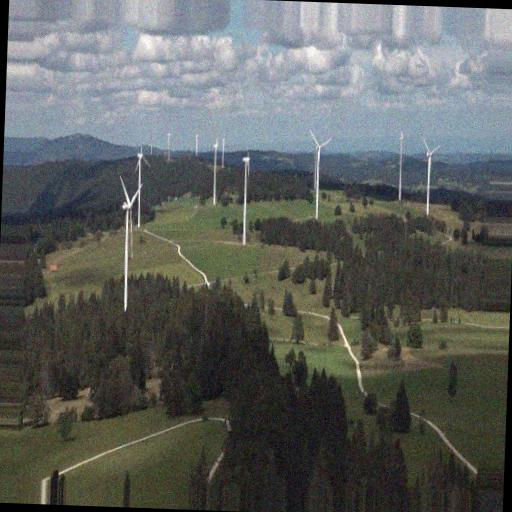wind turbine: (116, 175, 144, 314), (309, 128, 332, 221), (420, 138, 445, 219), (239, 146, 254, 245)
